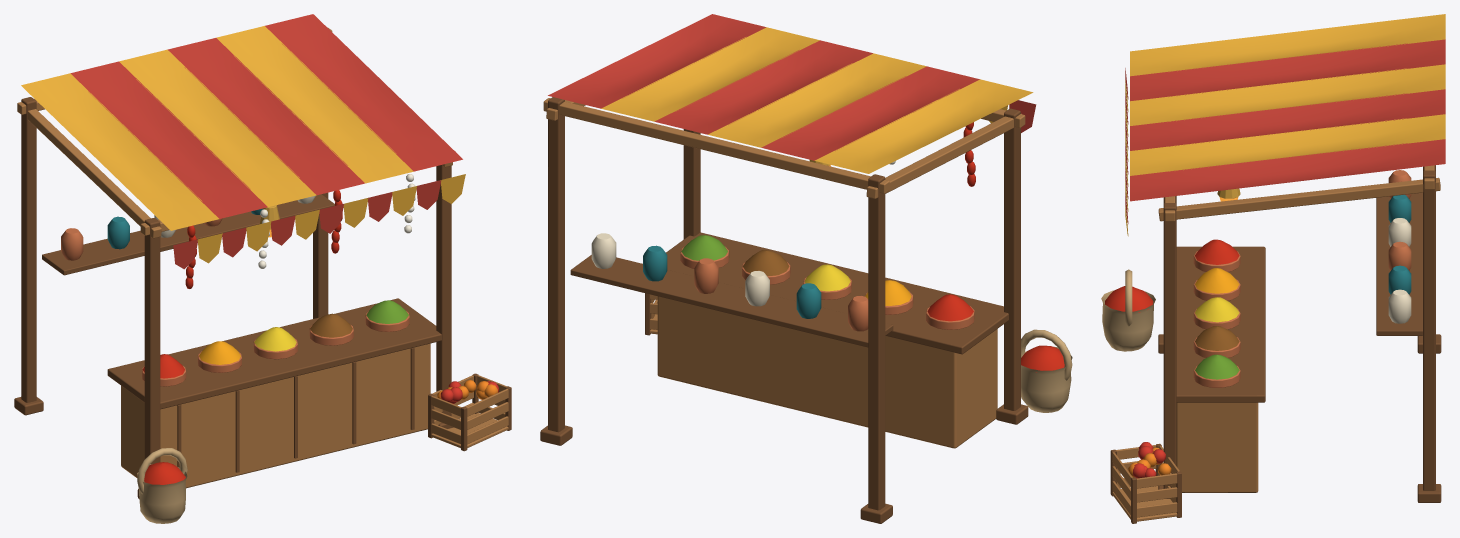
File: mk_stall_spice.glb
3 views of the same model, side by side, from view 1: azimuth 30°, elevation 25°; view 2: azimuth 150°, elevation 25°; view 3: azimuth 270°, elevation 25° (orthographic). The views are drawn at different scales.
Parts seen in each view (by area): view 1: mk_stall_spice_body; view 2: mk_stall_spice_body; view 3: mk_stall_spice_body.
Part boxes in pixels (left/top/right/bottom): mk_stall_spice_body: left=14, top=14, right=511, bottom=523; mk_stall_spice_body: left=540, top=14, right=1072, bottom=523; mk_stall_spice_body: left=1101, top=14, right=1445, bottom=523.
Size of the model in its own units: 3.87 by 3.14 by 2.92.
